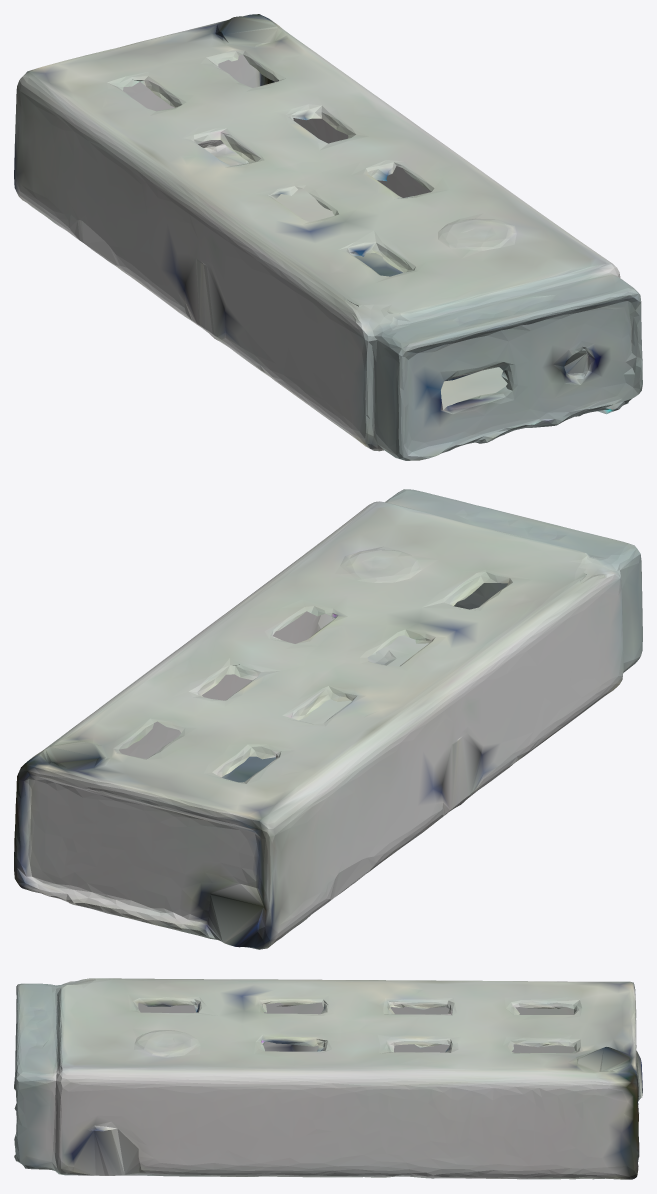
The model's file is scan.obj.
3 views of the same model, one above another, from view 1: azimuth 30°, elevation 25°; view 2: azimuth 150°, elevation 25°; view 3: azimuth 270°, elevation 25° (orthographic). The views are drawn at different scales.
Visible parts, largest first — view 1: scan.ply; view 2: scan.ply; view 3: scan.ply.
Boxes of the visible parts, x1,y1,x2,y2 form: scan.ply: (14,14,642,460); scan.ply: (14,489,642,949); scan.ply: (14,978,642,1179).
Bounding box in the file's own units: 0.0493 × 0.025 × 0.1249.
